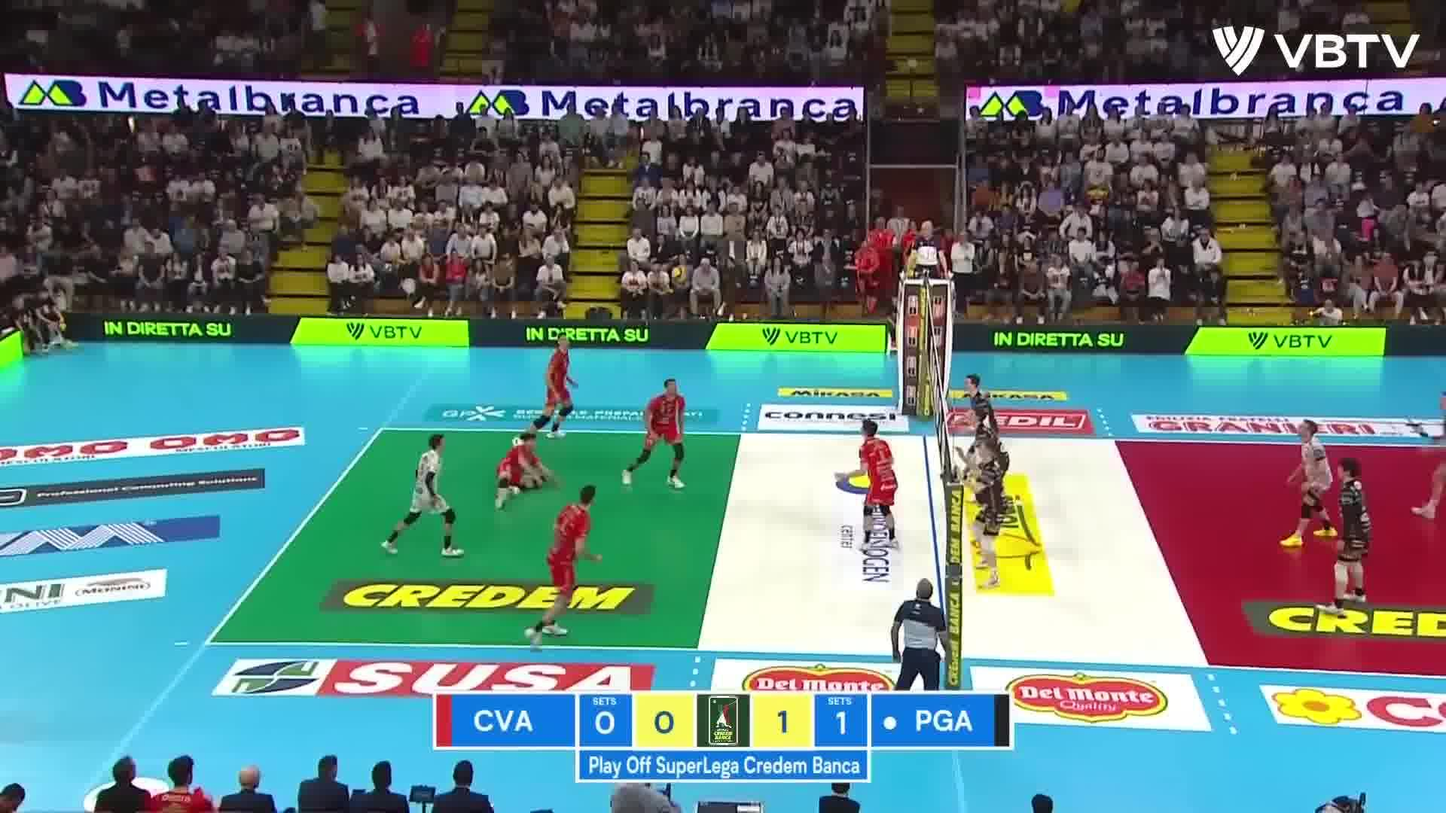balls: (671, 263, 688, 284)
